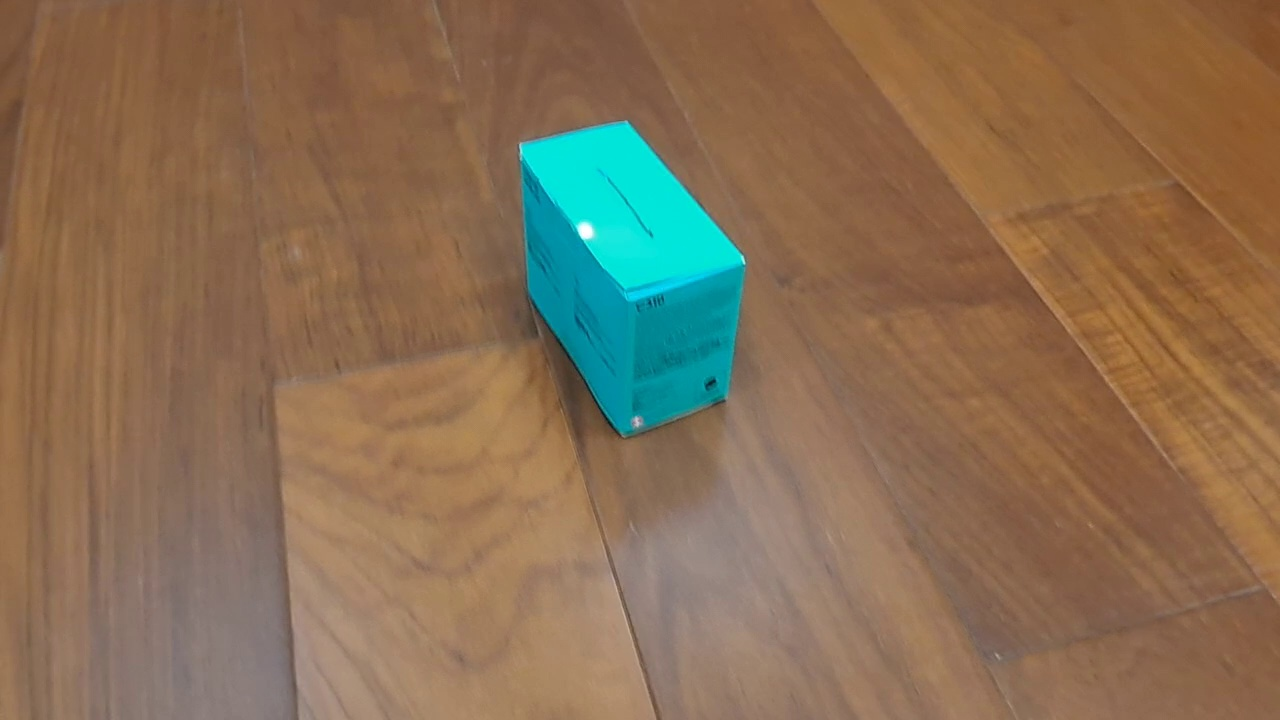webcam: (515, 117, 748, 441)
